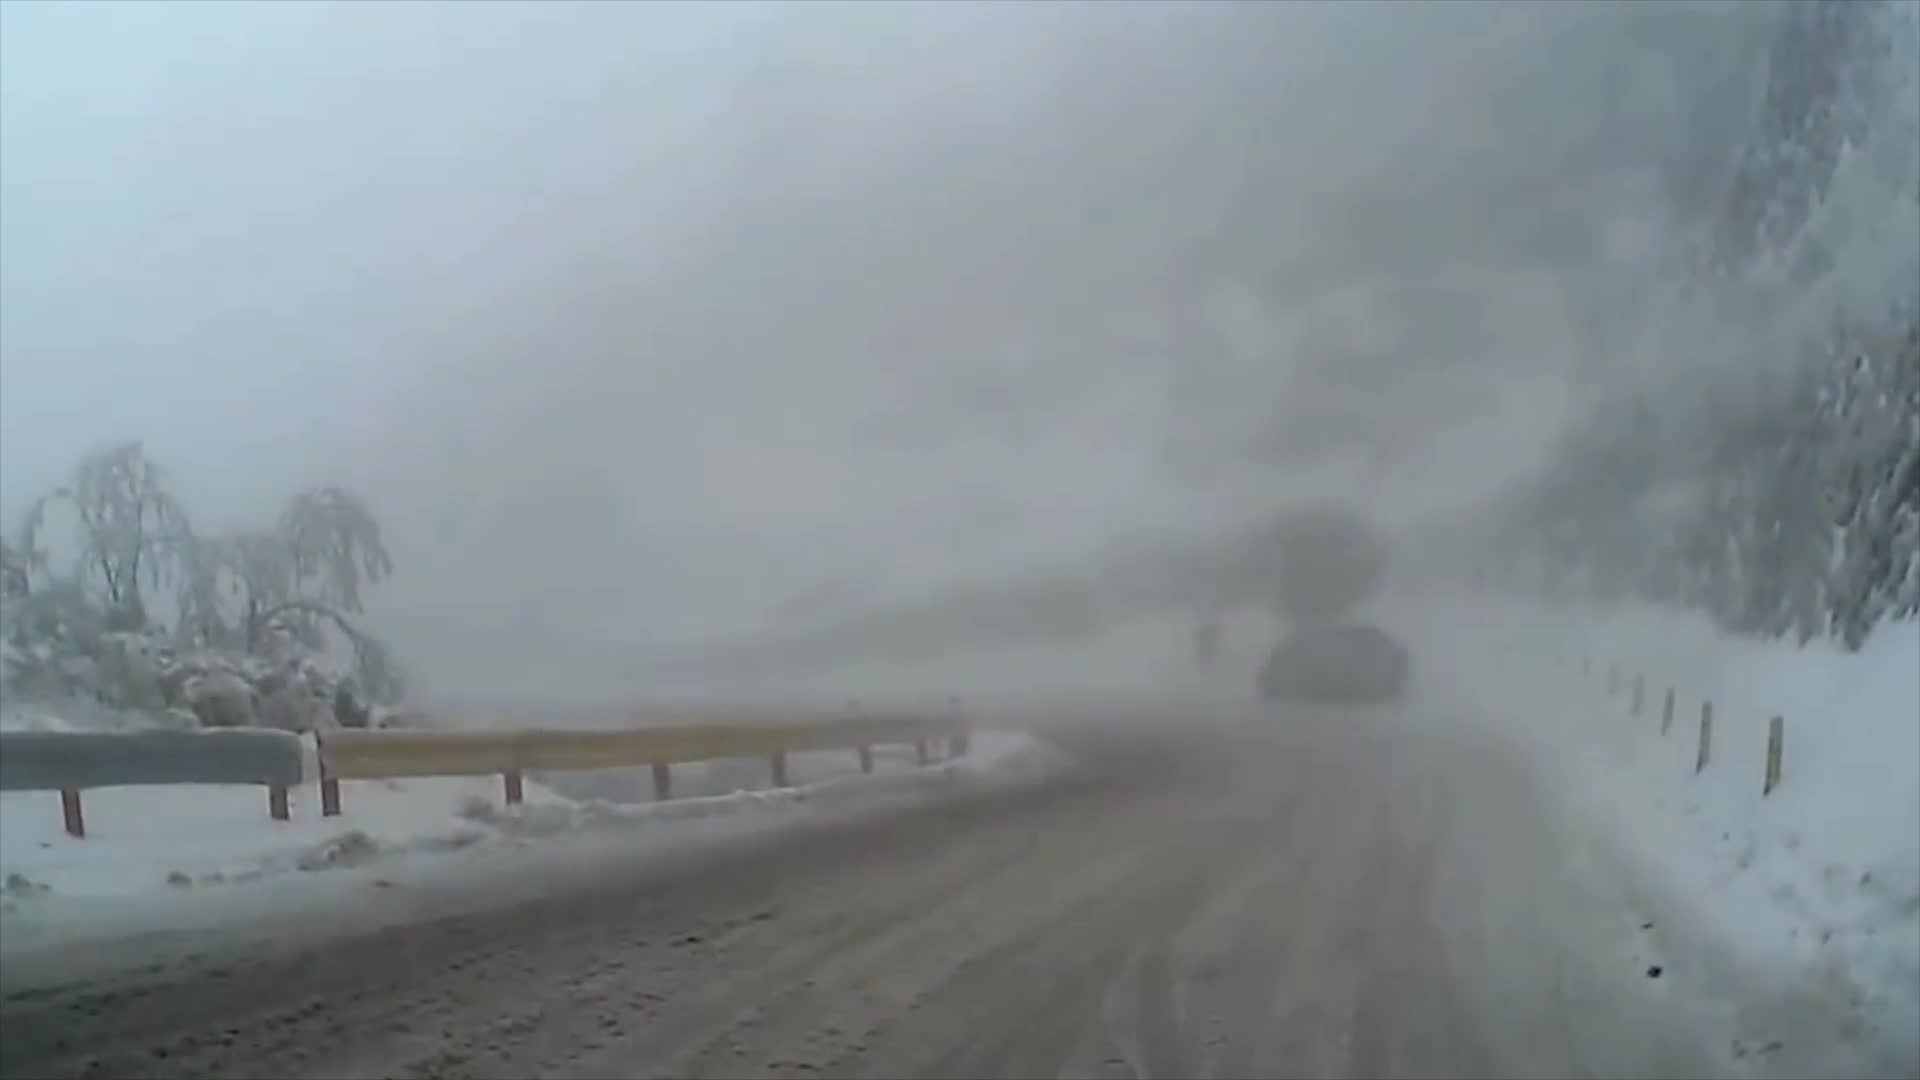vehicle: (1254, 620, 1410, 702)
